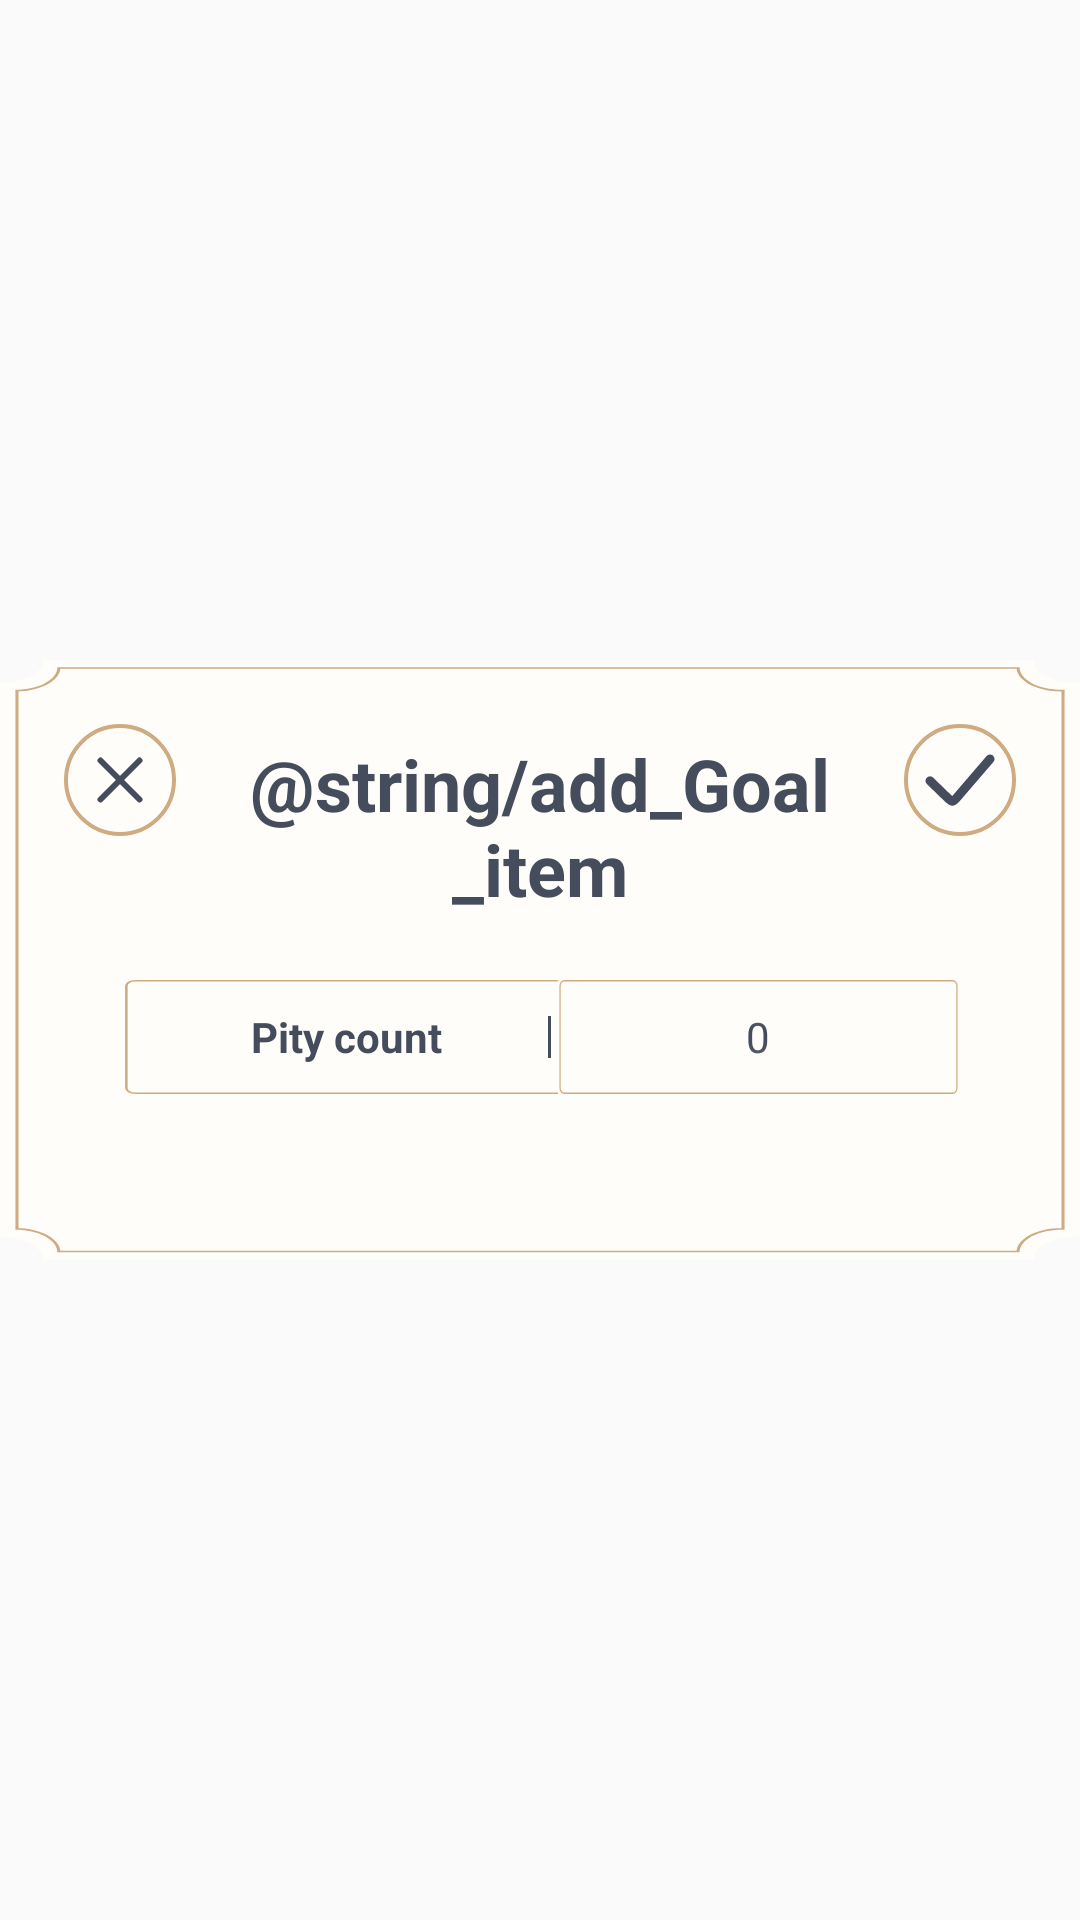

Screen size 1080px x 1920px. Icon name, then its center in pixels as point (x, y):
close: point (120, 780)
done: point (960, 780)
